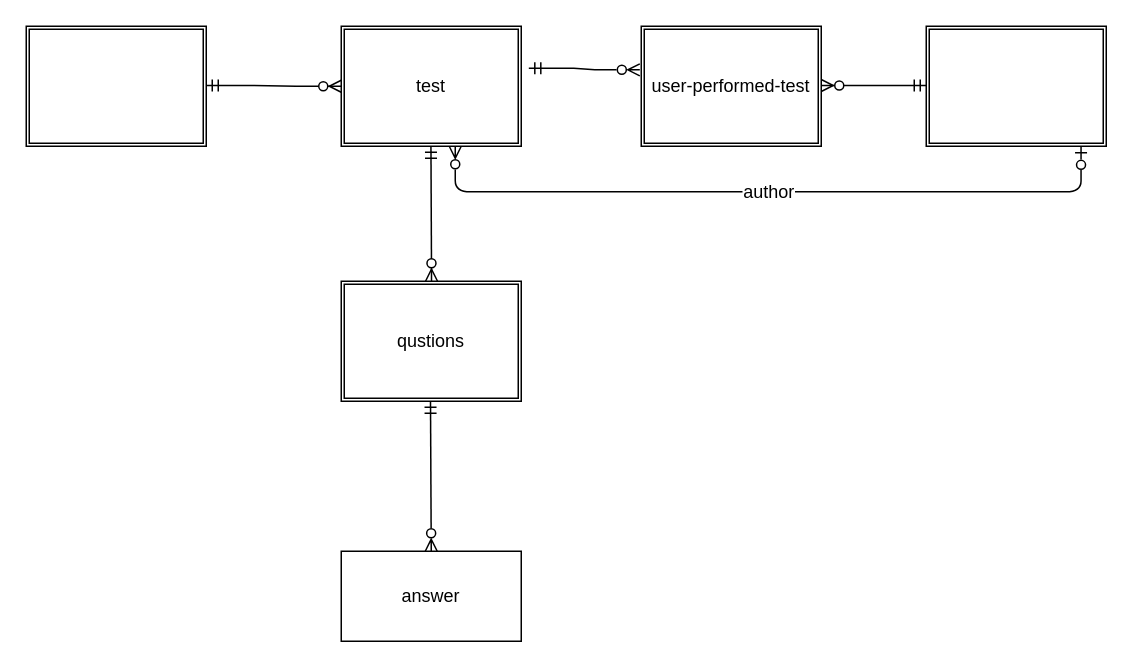
Image size: 1133x668. Some labels were removed from this diagram. The box of each missing label's shape, as (x1, y1, x2, y2) in pixels:
categories: (25, 25, 206, 146)
user: (925, 25, 1106, 146)
